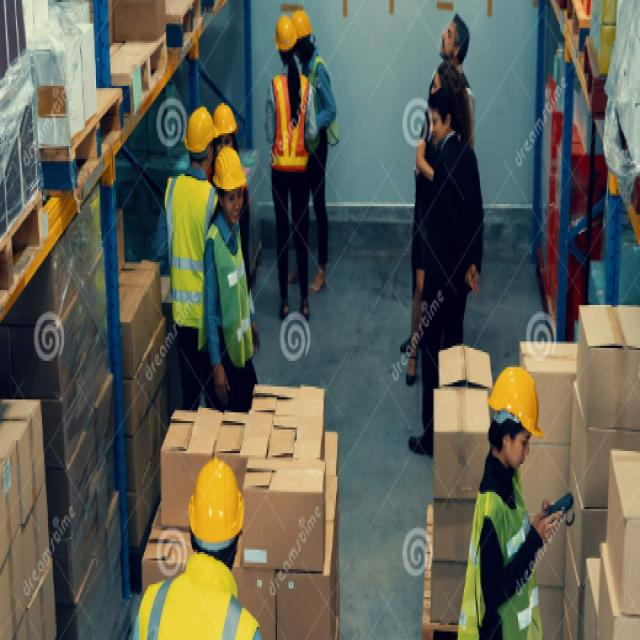hard_hat: (186, 455, 247, 565), (483, 364, 546, 468), (211, 147, 247, 221), (182, 104, 220, 170), (212, 101, 238, 156), (274, 12, 299, 65), (288, 9, 314, 56)
shoes: (278, 299, 312, 325)
vest: (456, 465, 544, 640), (138, 552, 265, 640), (166, 172, 220, 332), (204, 216, 258, 370), (270, 70, 312, 175), (304, 54, 342, 156)
